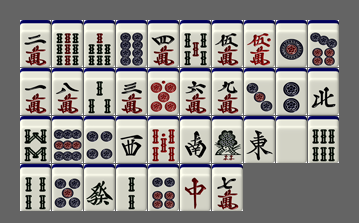0m: (244, 20, 275, 67)
0p: (148, 68, 179, 115)
0s: (148, 116, 179, 163)
1m: (20, 68, 51, 115)
1p: (276, 20, 307, 67)
1s: (212, 116, 243, 163)
1z: (244, 116, 275, 163)
2m: (20, 20, 51, 67)
2p: (276, 68, 307, 115)
2s: (116, 164, 147, 211)
2z: (180, 116, 211, 163)
3m: (116, 68, 147, 115)
3p: (244, 68, 275, 115)
3s: (84, 68, 115, 115)
3z: (116, 116, 147, 163)
4m: (148, 20, 179, 67)
4p: (84, 116, 115, 163)
4s: (20, 164, 51, 211)
4z: (308, 68, 339, 115)
5m: (212, 20, 243, 67)
5p: (52, 164, 83, 211)
5s: (180, 20, 211, 67)
5z: (276, 116, 307, 163)
6m: (180, 68, 211, 115)
6p: (148, 164, 179, 211)
6s: (308, 116, 339, 163)
6z: (84, 164, 115, 211)
7m: (212, 164, 243, 211)
7p: (308, 20, 339, 67)
7s: (84, 20, 115, 67)
7z: (180, 164, 211, 211)
8m: (52, 68, 83, 115)
8p: (116, 20, 147, 67)
8s: (20, 116, 51, 163)
9m: (212, 68, 243, 115)
9p: (52, 116, 83, 163)
9s: (52, 20, 83, 67)
